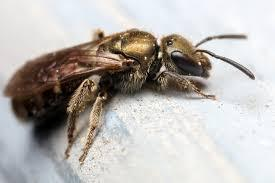Lasioglossum: (6, 20, 260, 157)
